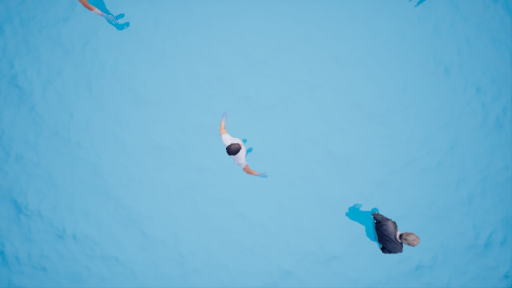person: (341, 194, 426, 258), (210, 107, 276, 185), (74, 1, 140, 35)
